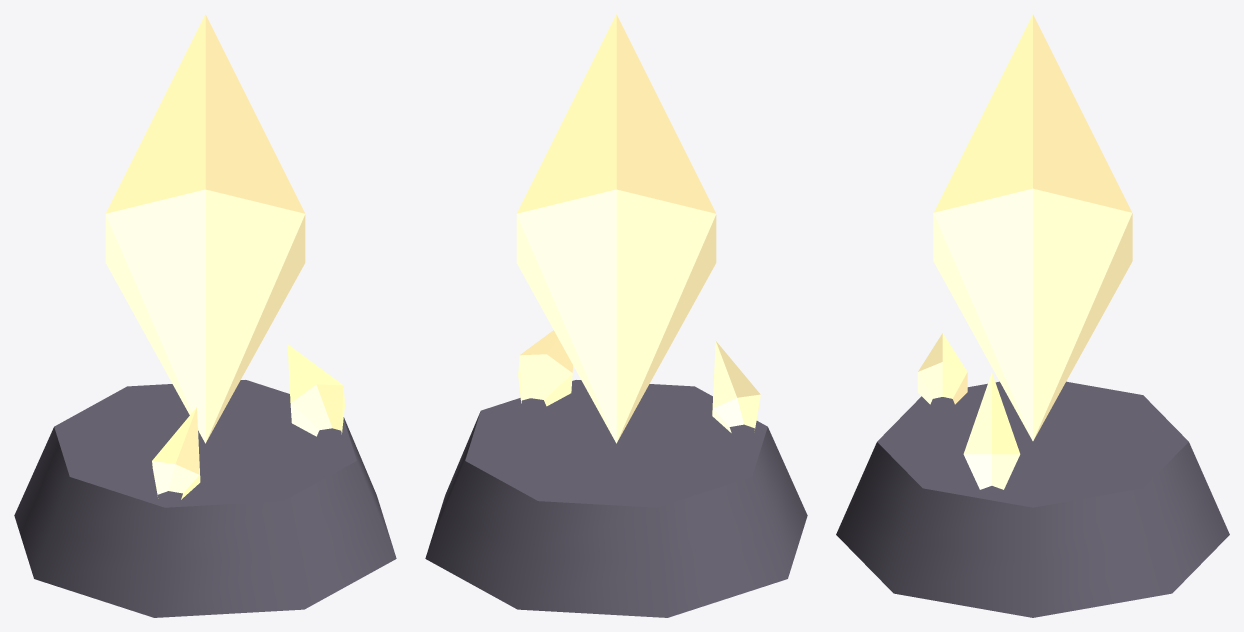
File: cristal_test.glb
The picture shows the model from 3 angles, left to right: view 1: azimuth 30°, elevation 25°; view 2: azimuth 150°, elevation 25°; view 3: azimuth 270°, elevation 25°; orthographic projection.
Visible parts, largest first — view 1: Socle, Cristal, Eclat1, Eclat2; view 2: Socle, Cristal, Eclat1, Eclat2; view 3: Socle, Cristal, Eclat1, Eclat2.
Boxes of the visible parts, x1,y1,x2,y2 form: Socle: (14,380,396,617); Cristal: (105,14,305,443); Eclat1: (287,344,344,436); Eclat2: (152,407,200,499); Socle: (425,380,807,617); Cristal: (516,14,716,443); Eclat1: (518,330,572,406); Eclat2: (712,341,760,432); Socle: (836,381,1229,617); Cristal: (933,14,1132,440); Eclat1: (963,373,1020,489); Eclat2: (917,333,967,404).
Bounding box in the file's own units: 0.96 × 1.4 × 0.96.
